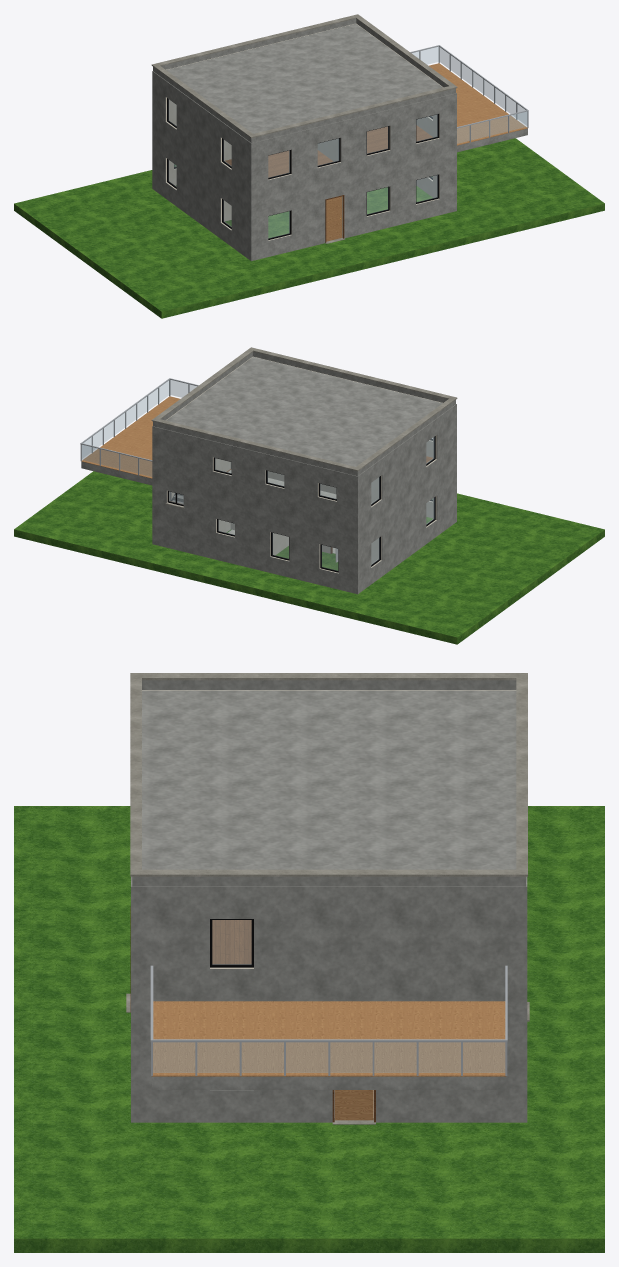
Rendered from b_cantilever_house.gltf.
3 renders of one model, top to bottom at view 1: azimuth 30°, elevation 25°; view 2: azimuth 150°, elevation 25°; view 3: azimuth 270°, elevation 25°, orthographic. The views are drawn at different scales.
Parts seen in each view (by area): view 1: S_cantilever_house, D_cantilever_house_F1_S3_Door0; view 2: S_cantilever_house; view 3: S_cantilever_house, D_cantilever_house_F1_E1_Door0.
Part boxes in pixels (x1,y1,x2,y2): S_cantilever_house: [14, 14, 604, 318]; D_cantilever_house_F1_S3_Door0: [326, 196, 342, 241]; S_cantilever_house: [14, 347, 604, 644]; S_cantilever_house: [14, 673, 604, 1252]; D_cantilever_house_F1_E1_Door0: [335, 1090, 373, 1120].
Size of the model in its own units: 26 by 7.36 by 15.
17 materials, 10 textured.
